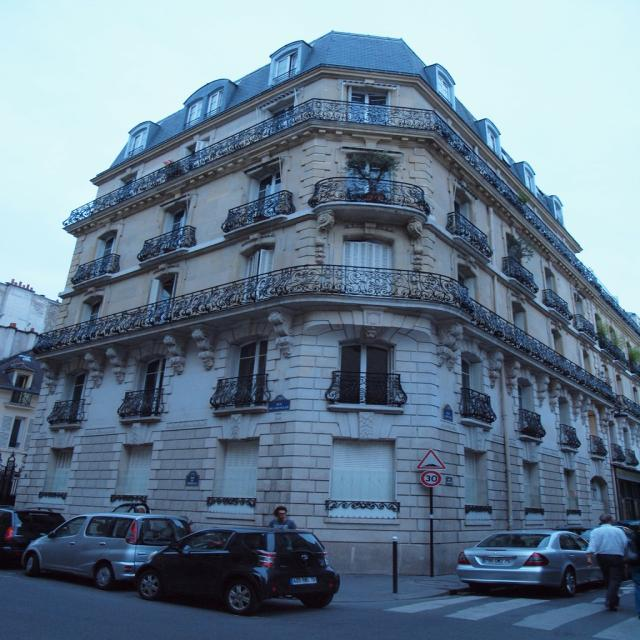car: (135, 525, 337, 613)
